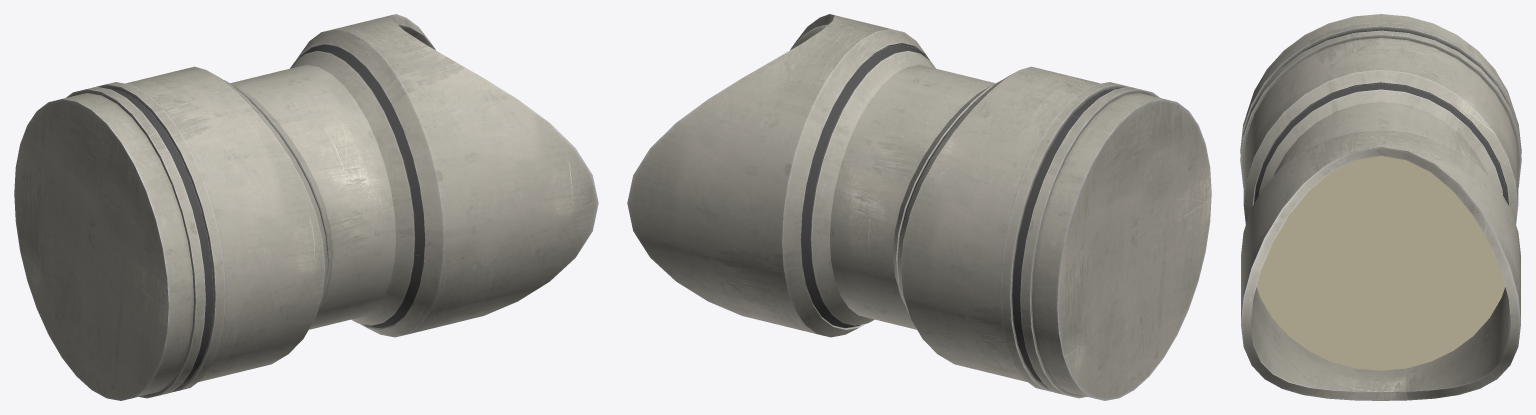
Rendered from guard_5_c_d.glb.
3 renders of one model, left to right at view 1: azimuth 30°, elevation 25°; view 2: azimuth 150°, elevation 25°; view 3: azimuth 270°, elevation 25°, orthographic. The views are drawn at different scales.
Visible parts, largest first — view 1: guard_5_c_d_lod0; view 2: guard_5_c_d_lod0; view 3: guard_5_c_d_lod0.
Part boxes in pixels (x1,y1,x2,y2): guard_5_c_d_lod0: [14, 14, 598, 400]; guard_5_c_d_lod0: [627, 14, 1211, 400]; guard_5_c_d_lod0: [1240, 14, 1521, 400].
Size of what is drawn, in the model's own units: 0.0477 by 0.0305 by 0.0305.
Materials: 1 (1 with a texture image).
